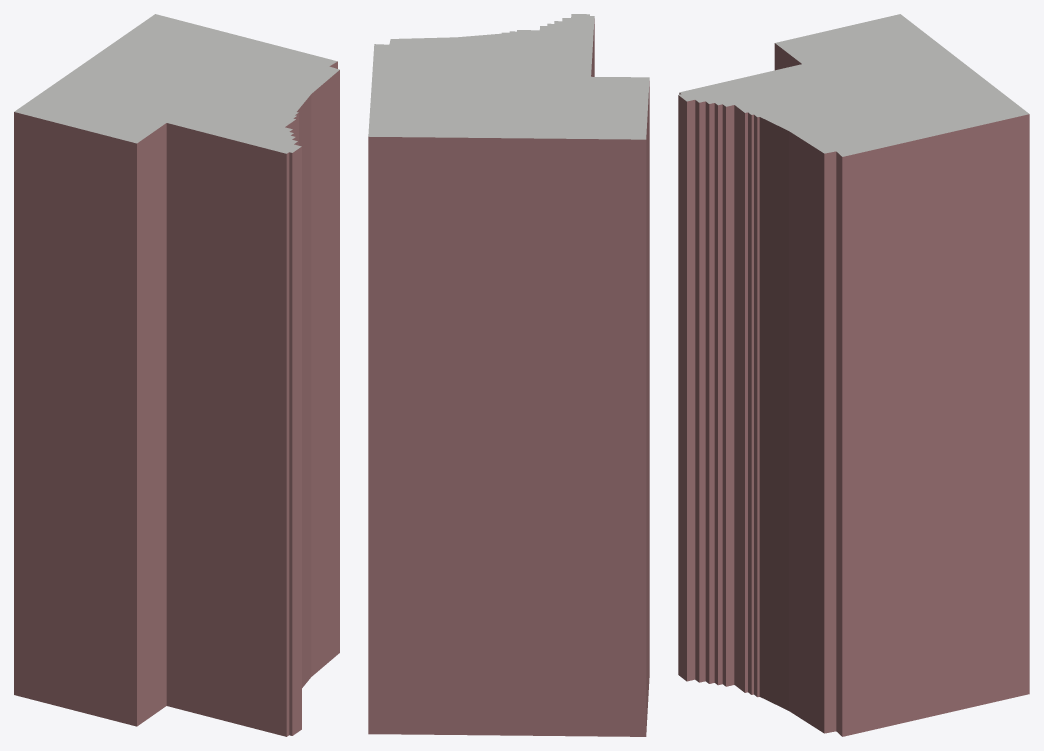
File: nyc-1016046-0.glb
The picture shows the model from 3 angles, left to right: view 1: azimuth 30°, elevation 25°; view 2: azimuth 150°, elevation 25°; view 3: azimuth 270°, elevation 25°; orthographic projection. The views are drawn at different scales.
Visible parts, largest first — view 1: nyc-1016046-0; view 2: nyc-1016046-0; view 3: nyc-1016046-0.
Boxes of the visible parts, left/top/right/bottom form: nyc-1016046-0: left=14, top=14, right=339, bottom=736; nyc-1016046-0: left=368, top=14, right=649, bottom=736; nyc-1016046-0: left=678, top=14, right=1029, bottom=736.
Bounding box in the file's own units: 70.6 × 134 × 73.34.
